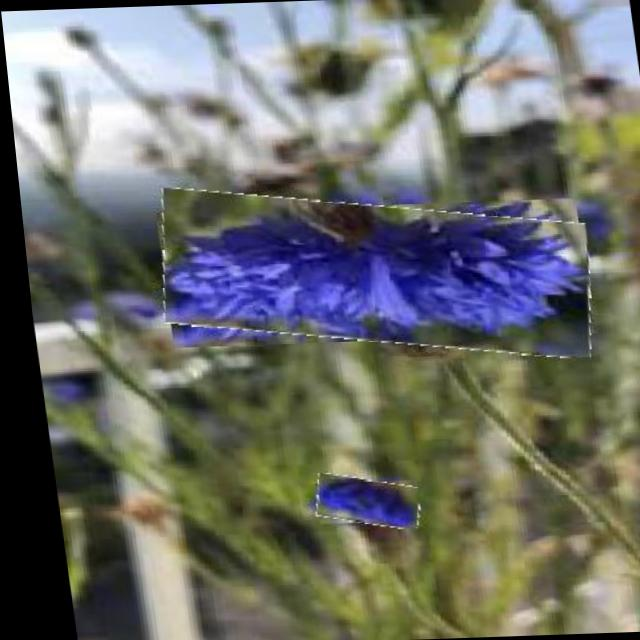Flower: (145, 186, 593, 361), (301, 475, 411, 530)
